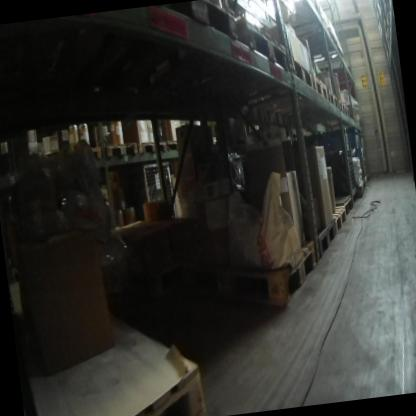pallet: (22, 314, 214, 416), (152, 11, 291, 92), (200, 232, 321, 325), (130, 0, 242, 59), (223, 49, 315, 107), (239, 67, 329, 124), (286, 88, 341, 127), (297, 27, 345, 63), (304, 217, 336, 264), (63, 137, 107, 169), (322, 204, 348, 245), (104, 134, 139, 163), (25, 152, 67, 176), (323, 193, 353, 226), (329, 90, 352, 123), (139, 135, 168, 156), (165, 134, 186, 163), (383, 25, 396, 53), (333, 93, 346, 118), (383, 12, 394, 32), (357, 183, 367, 201), (383, 0, 393, 15)
stillage: (304, 123, 358, 210), (135, 153, 176, 214), (347, 129, 365, 199), (356, 129, 372, 186)
